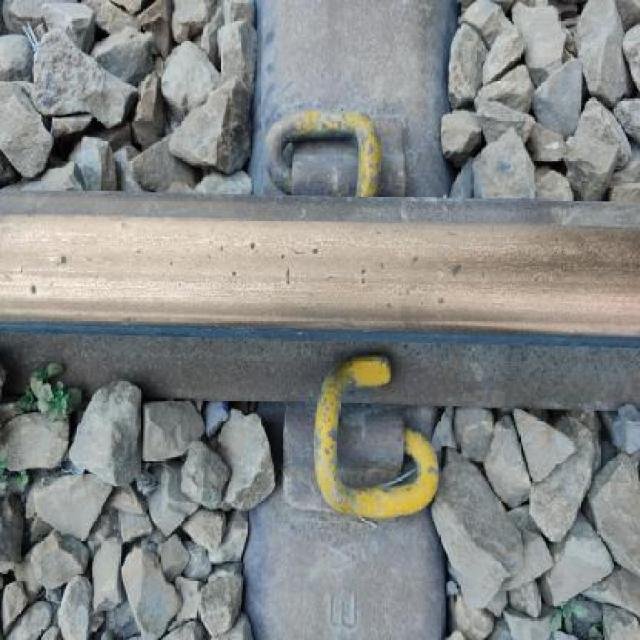non-defective: (1, 112, 640, 487)
